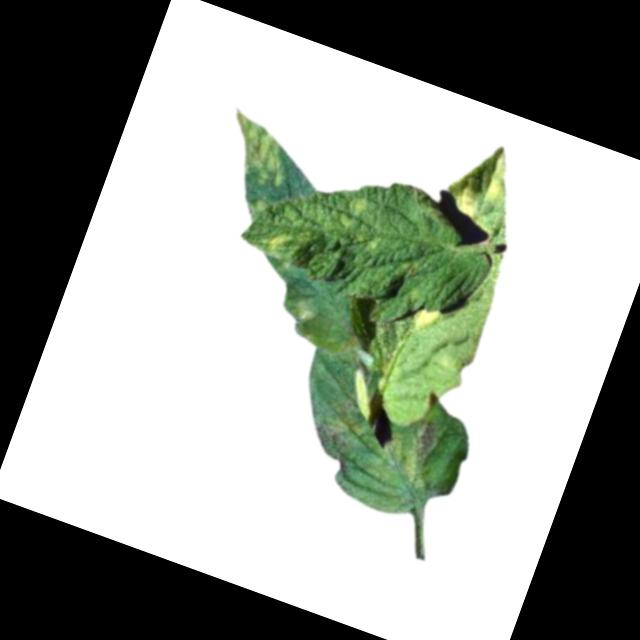Leaf_Mold: (212, 103, 301, 190), (377, 405, 448, 491), (481, 152, 517, 207), (408, 301, 443, 339), (259, 224, 295, 259), (448, 185, 480, 222), (339, 190, 371, 219)
